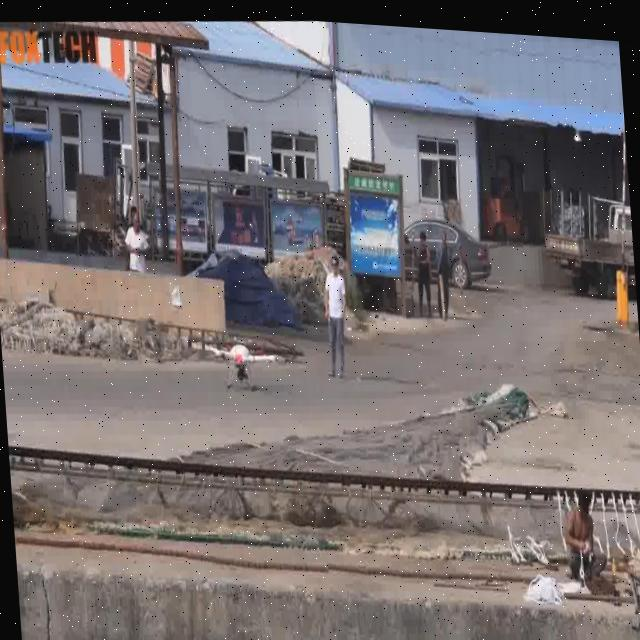drone: (195, 322, 286, 393)
